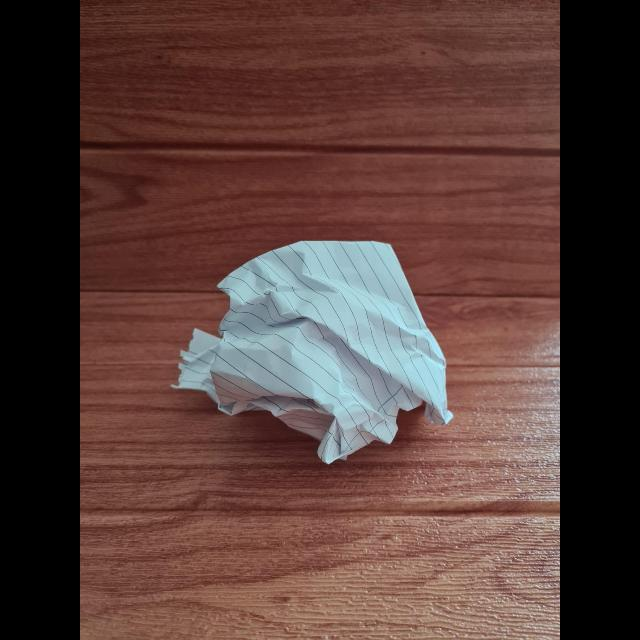scrap_paper: (176, 238, 464, 462)
